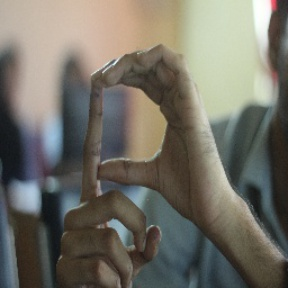D: (77, 37, 203, 208)
